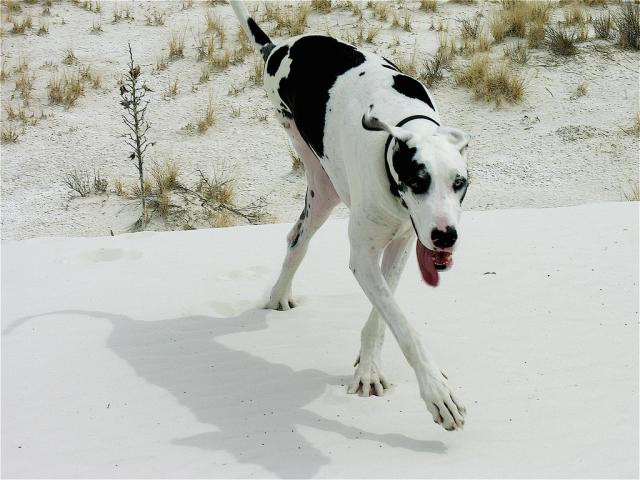Dog: (218, 0, 467, 429)
